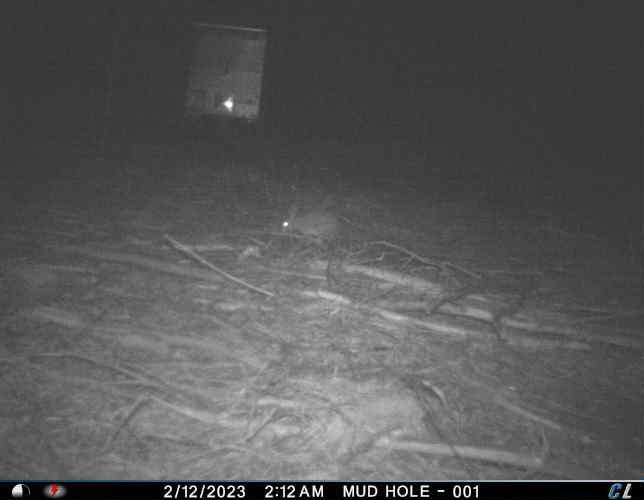Rabbit: (281, 197, 342, 247)
